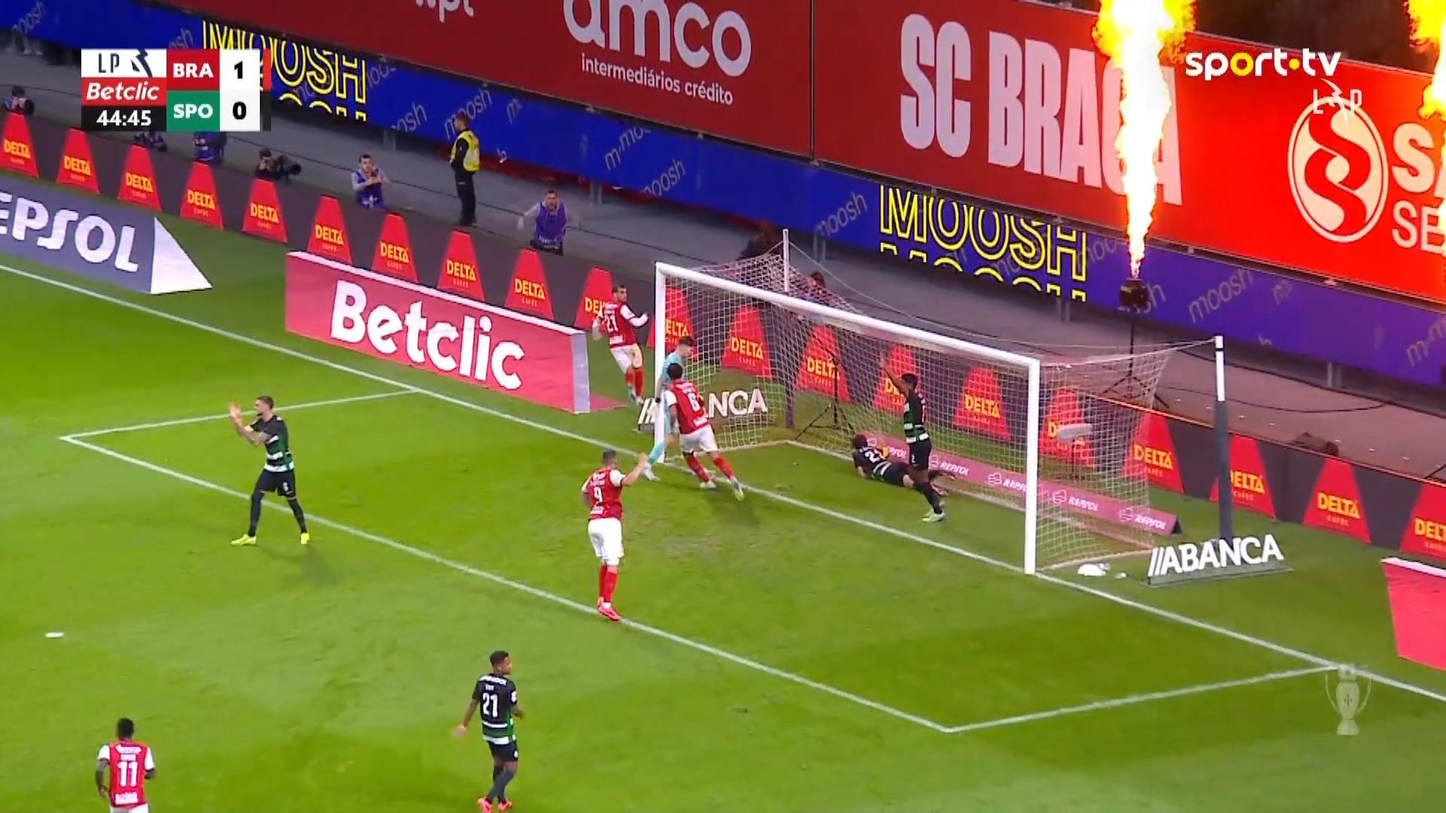goalkeeper: (639, 335, 696, 482)
player: (227, 394, 311, 547), (579, 447, 651, 623), (660, 361, 746, 501), (453, 649, 525, 811), (882, 365, 950, 522), (590, 282, 649, 407), (850, 432, 949, 496), (94, 716, 156, 811)
